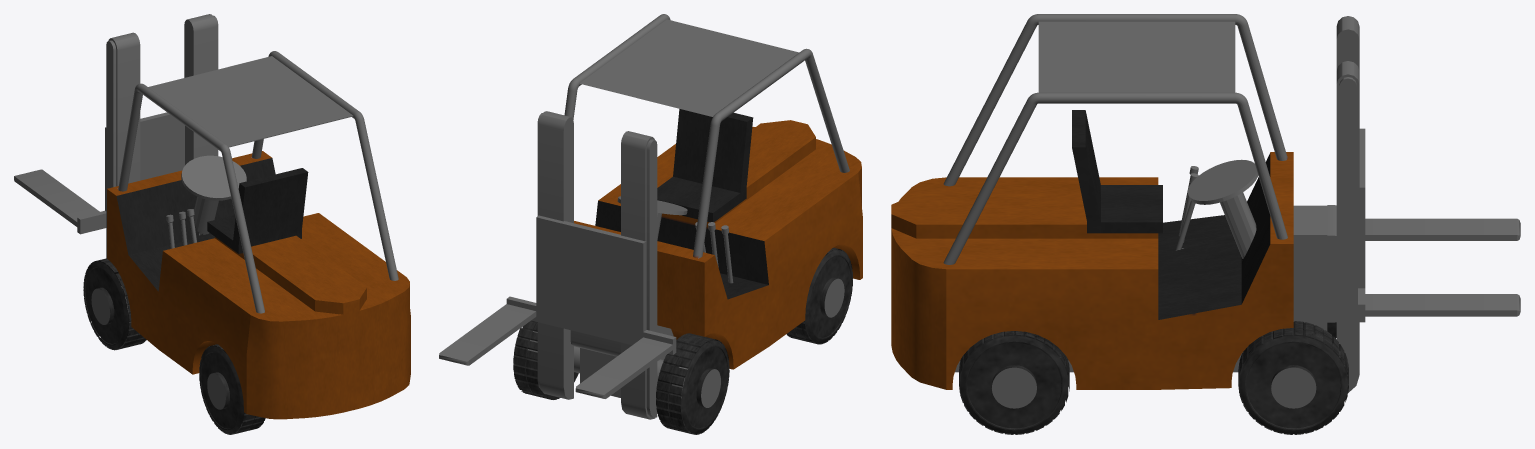
Rendered from forklift.fbx.
The picture shows the model from 3 angles, left to right: view 1: azimuth 30°, elevation 25°; view 2: azimuth 150°, elevation 25°; view 3: azimuth 270°, elevation 25°; orthographic projection. The views are drawn at different scales.
Parts seen in each view (by area): view 1: bake; view 2: bake; view 3: bake.
Part boxes in pixels (x1,y1,x2,y2): bake: [14, 14, 410, 434]; bake: [439, 14, 862, 434]; bake: [891, 14, 1520, 434].
Bounding box in the file's own units: 151 × 244 × 405.
Materials: 1 (1 with a texture image).
